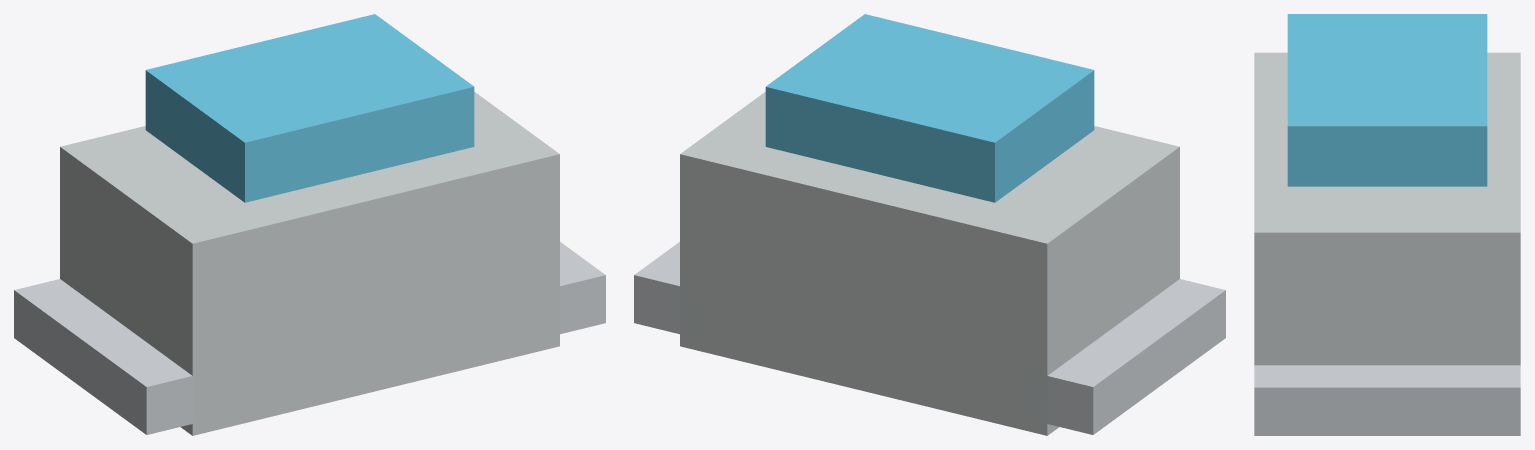
The model's file is 228_L118_LED7.glb.
The picture shows the model from 3 angles, left to right: view 1: azimuth 30°, elevation 25°; view 2: azimuth 150°, elevation 25°; view 3: azimuth 270°, elevation 25°; orthographic projection.
Parts seen in each view (by area): view 1: 0000__PSMAT__ceramic_white, 0001__PSMAT__status_blue, 0002__PSMAT__tin, 0003__PSMAT__tin; view 2: 0000__PSMAT__ceramic_white, 0001__PSMAT__status_blue, 0002__PSMAT__tin, 0003__PSMAT__tin; view 3: 0000__PSMAT__ceramic_white, 0001__PSMAT__status_blue, 0003__PSMAT__tin.
Boxes of the visible parts, <box> form: 0000__PSMAT__ceramic_white: <box>60,92,559,435</box>; 0001__PSMAT__status_blue: <box>145,14,474,202</box>; 0002__PSMAT__tin: <box>14,279,215,434</box>; 0003__PSMAT__tin: <box>560,242,605,334</box>; 0000__PSMAT__ceramic_white: <box>680,92,1179,435</box>; 0001__PSMAT__status_blue: <box>765,14,1094,202</box>; 0002__PSMAT__tin: <box>1024,279,1225,434</box>; 0003__PSMAT__tin: <box>634,242,701,338</box>; 0000__PSMAT__ceramic_white: <box>1254,52,1520,365</box>; 0001__PSMAT__status_blue: <box>1287,14,1487,186</box>; 0003__PSMAT__tin: <box>1254,365,1520,435</box>.
Bounding box in the file's own units: 0.004 × 0.0022 × 0.002.
